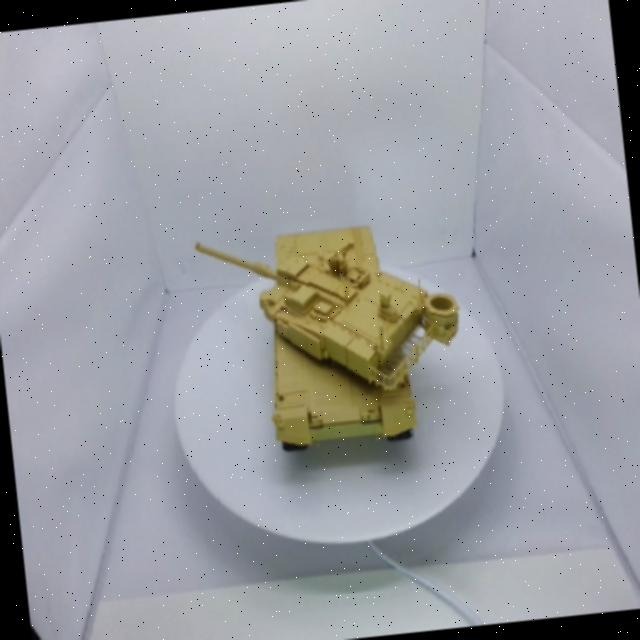korea tank: (138, 164, 496, 491)
